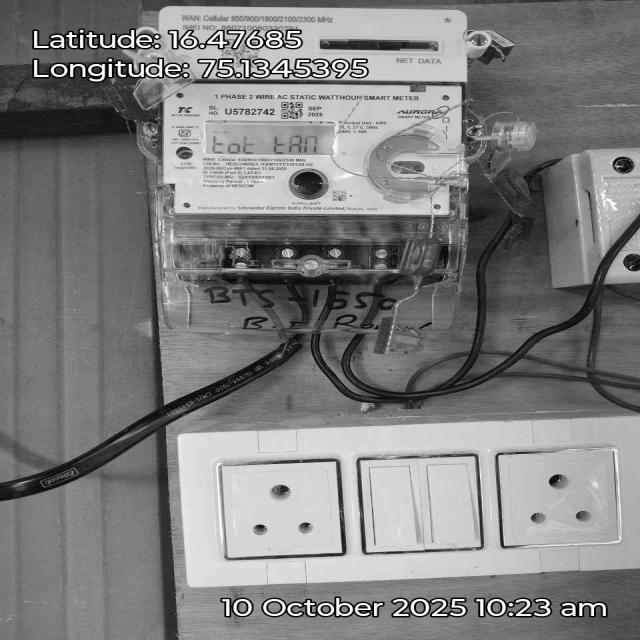meter: (156, 3, 472, 216)
